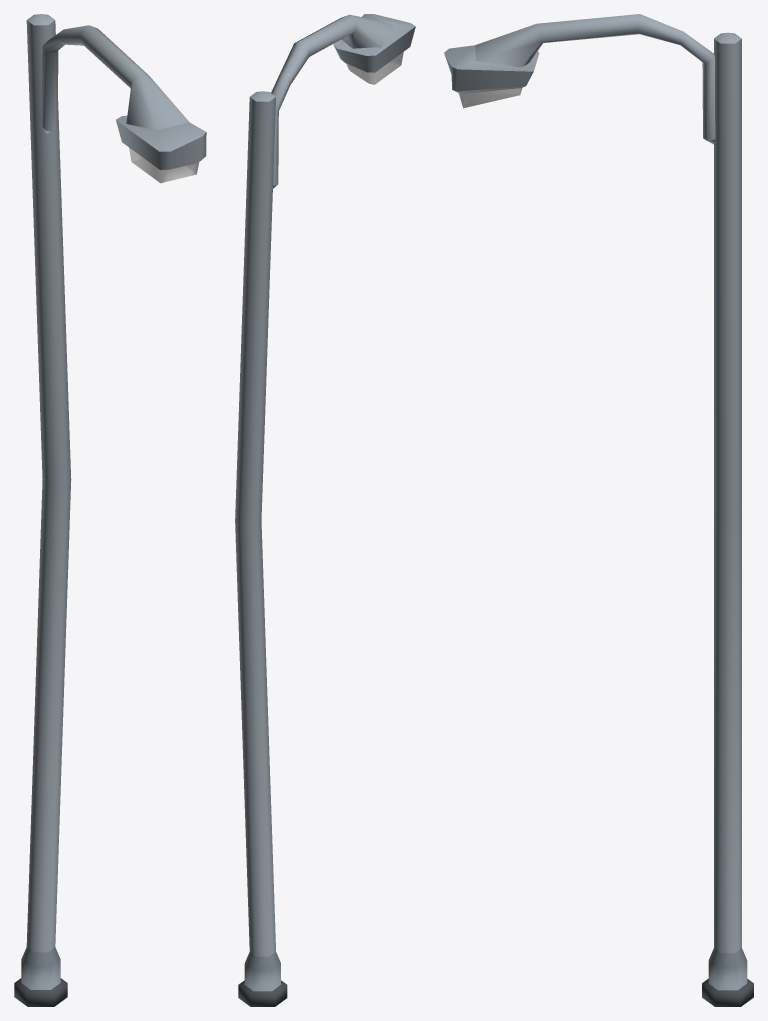
File: Streetlight.fbx
3 views of the same model, side by side, from view 1: azimuth 30°, elevation 25°; view 2: azimuth 150°, elevation 25°; view 3: azimuth 270°, elevation 25° (orthographic). The views are drawn at different scales.
Visible parts, largest first — view 1: Streetlight.001; view 2: Streetlight.001; view 3: Streetlight.001.
Part boxes in pixels (x1,y1,x2,y2): Streetlight.001: (14, 14, 206, 1006); Streetlight.001: (235, 14, 415, 1006); Streetlight.001: (444, 14, 753, 1006).
Bounding box in the file's own units: 53.31 × 994 × 283.
